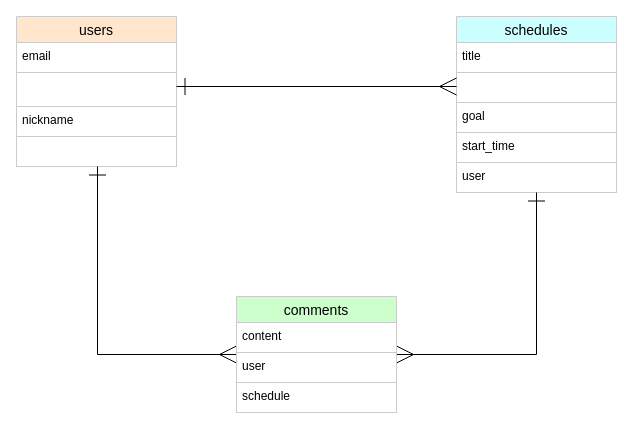
The diagram is 633 pixels wide and 429 high, and some of its shapes have lost their labels. Here are the shapes that lost their labels. From the top down, the centre of each, then its label:
pixel 96 89: encrypted_password
pixel 536 87: detail
pixel 96 151: profile
